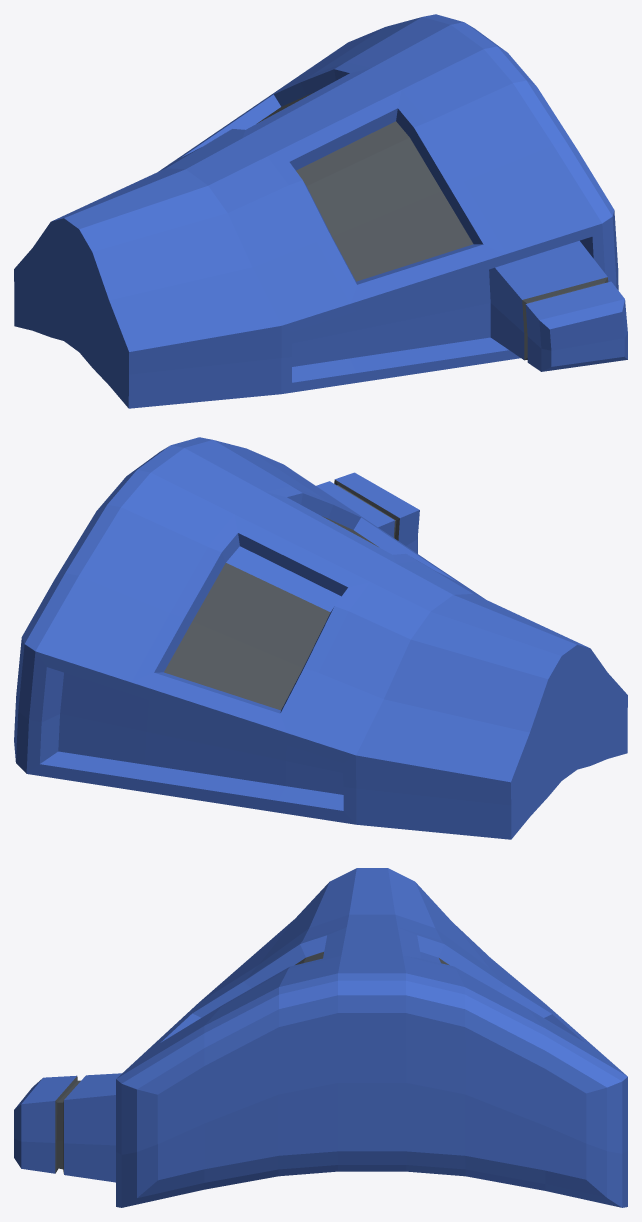
The model's file is Fighter_05_Side_Mount_Right_Blue.fbx.
3 views of the same model, one above another, from view 1: azimuth 30°, elevation 25°; view 2: azimuth 150°, elevation 25°; view 3: azimuth 270°, elevation 25° (orthographic). The views are drawn at different scales.
Parts seen in each view (by area): view 1: Fighter_05_Side_Mount_Right_Blue; view 2: Fighter_05_Side_Mount_Right_Blue; view 3: Fighter_05_Side_Mount_Right_Blue.
Boxes of the visible parts, x1,y1,x2,y2 form: Fighter_05_Side_Mount_Right_Blue: (14,14,627,408); Fighter_05_Side_Mount_Right_Blue: (14,437,627,839); Fighter_05_Side_Mount_Right_Blue: (14,868,627,1207).
Size of the model in its own units: 402 by 206 by 477.
Materials: 2 (2 with a texture image).
